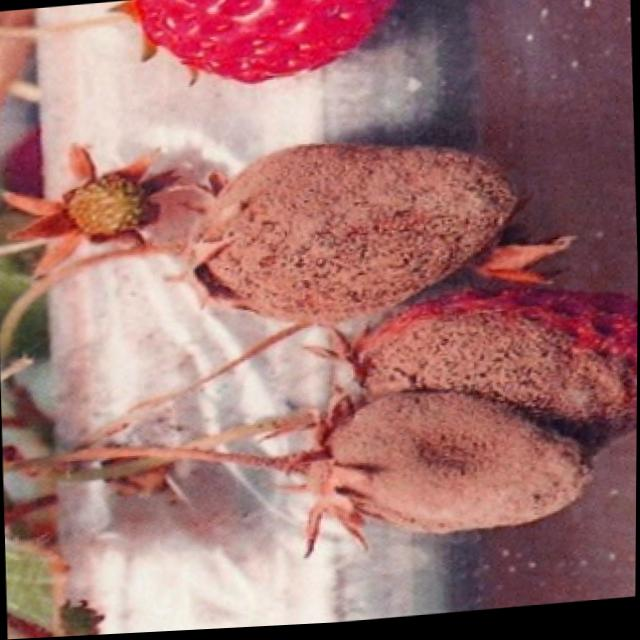Gray Mold: (182, 145, 520, 333), (348, 284, 638, 472), (301, 389, 596, 559)
